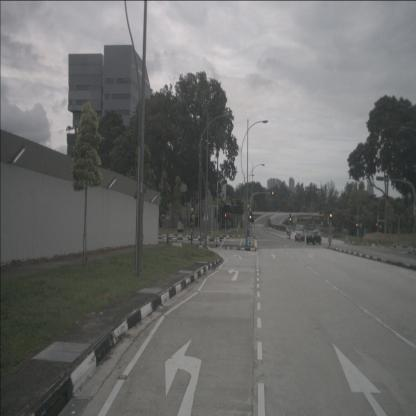cone: (166, 232, 169, 243)
